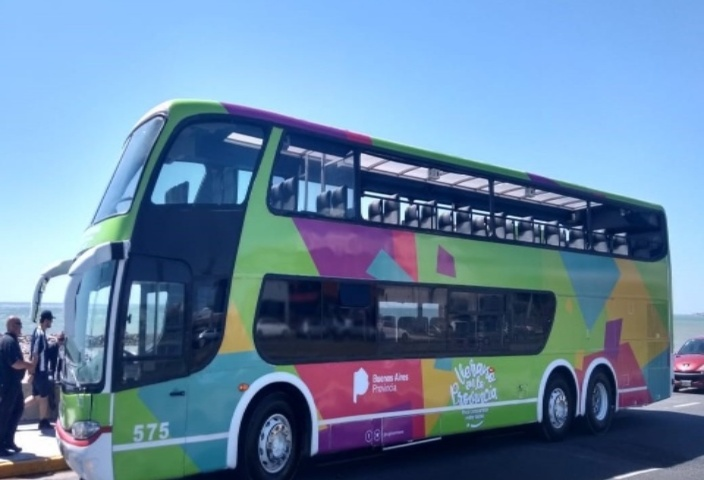bus: (39, 76, 691, 479)
